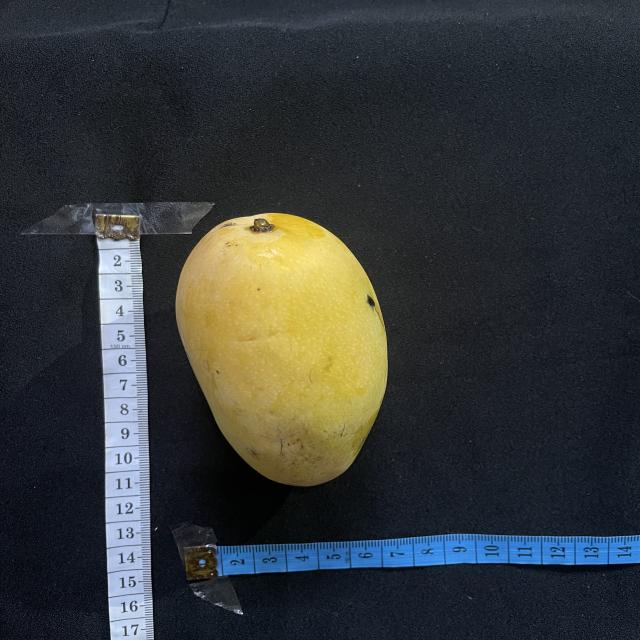Ripe: (176, 213, 388, 486)
